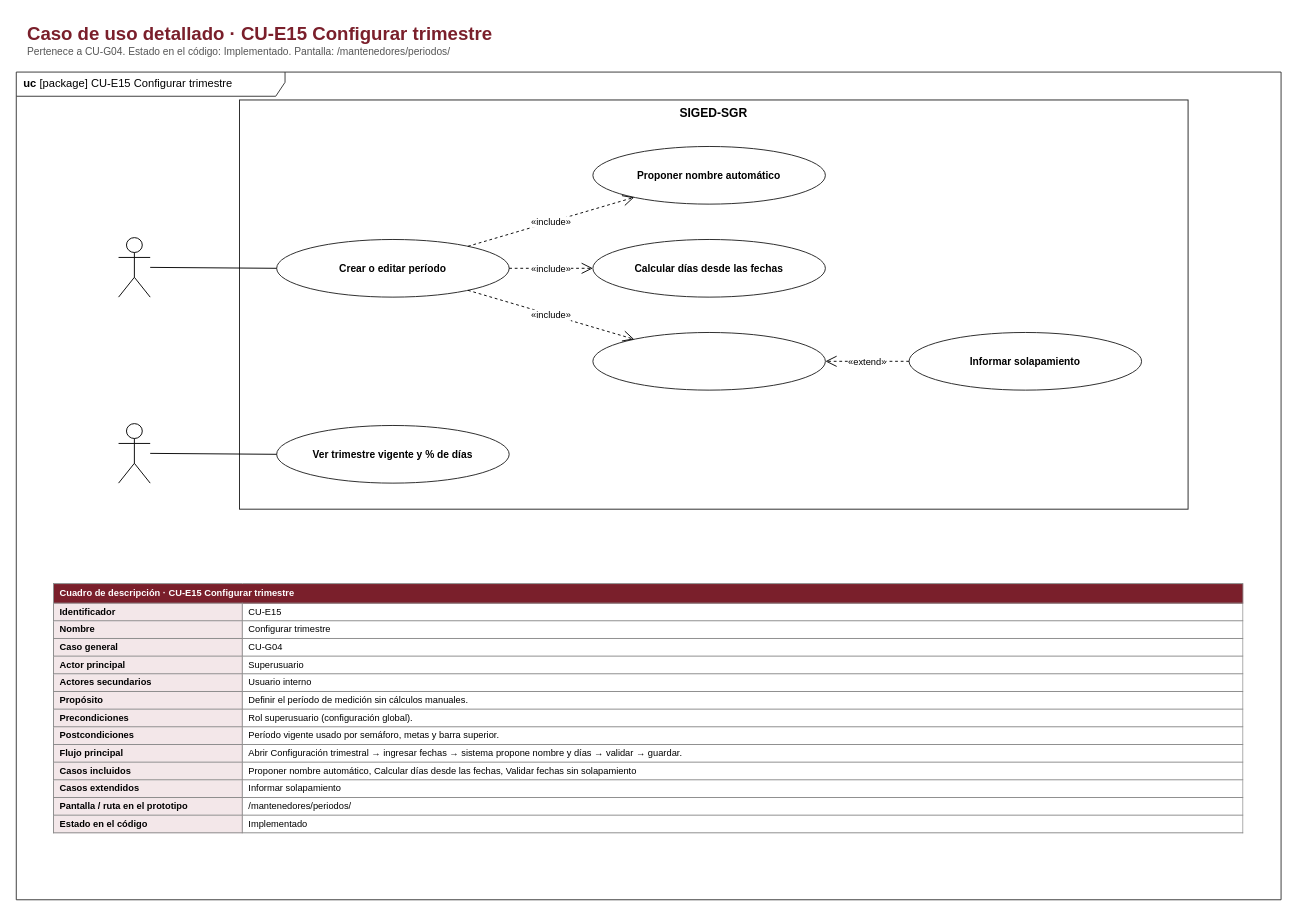
Image size: 1297x916. Some labels were removed from this diagram. Here are the shapes that lost their labels. From the top down, the centre of each, then its label:
At point (134, 267): "Superusuario".
At point (708, 361): "Validar fechas sin solapamiento".
At point (134, 453): "Usuario interno".
